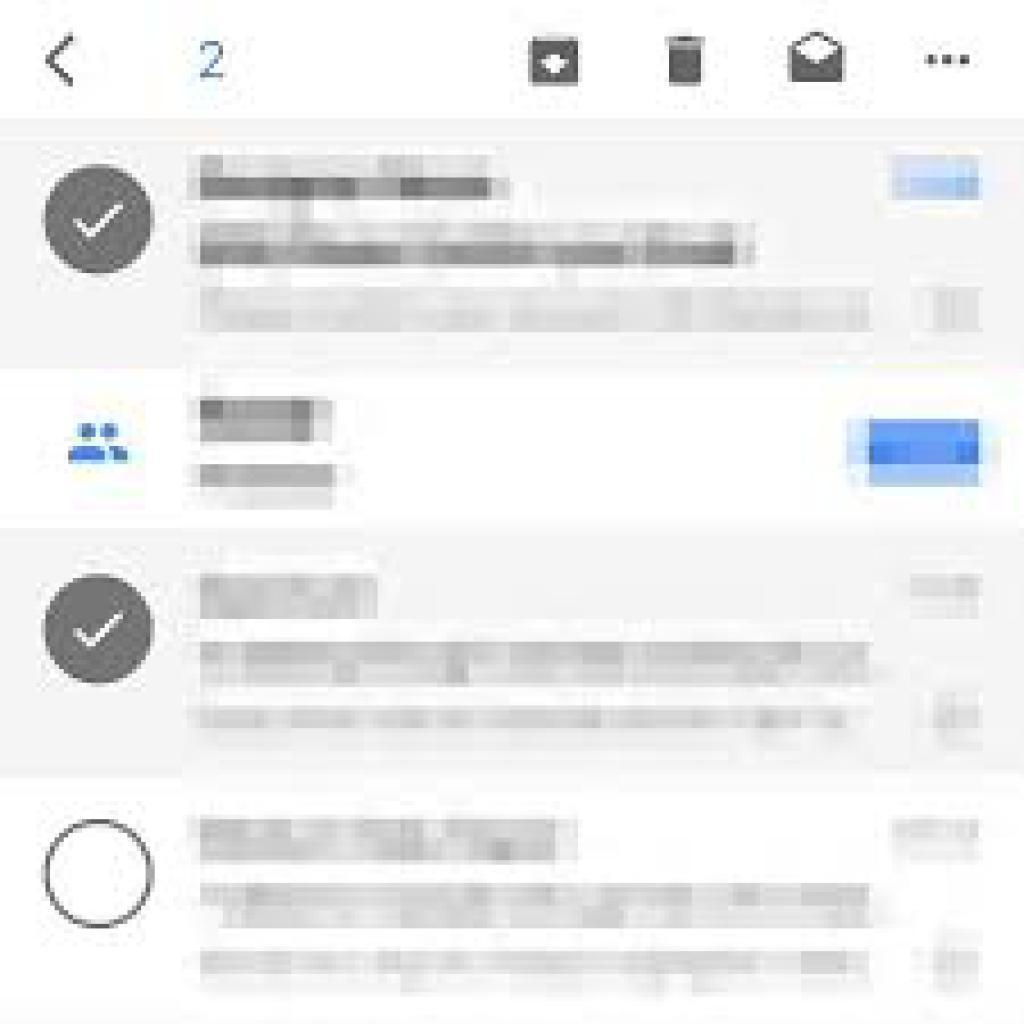checkbox: (37, 159, 161, 286), (41, 562, 161, 693), (37, 808, 158, 933)
icon: (785, 27, 847, 86), (661, 34, 711, 90), (530, 38, 581, 89), (42, 27, 80, 94), (921, 44, 977, 78)
label: (188, 38, 235, 86)
